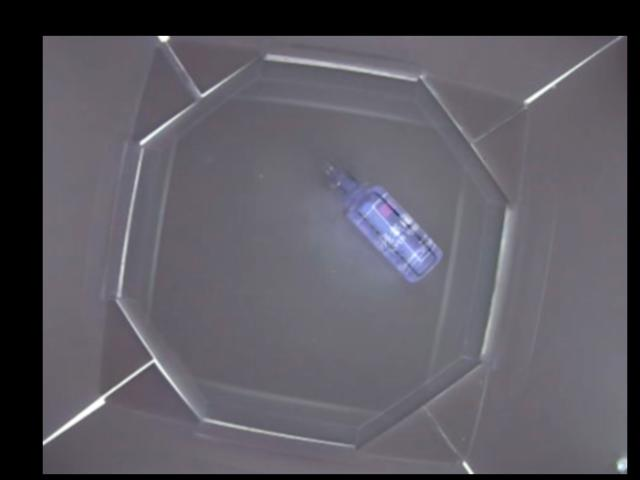Bottle: (321, 157, 446, 283)
